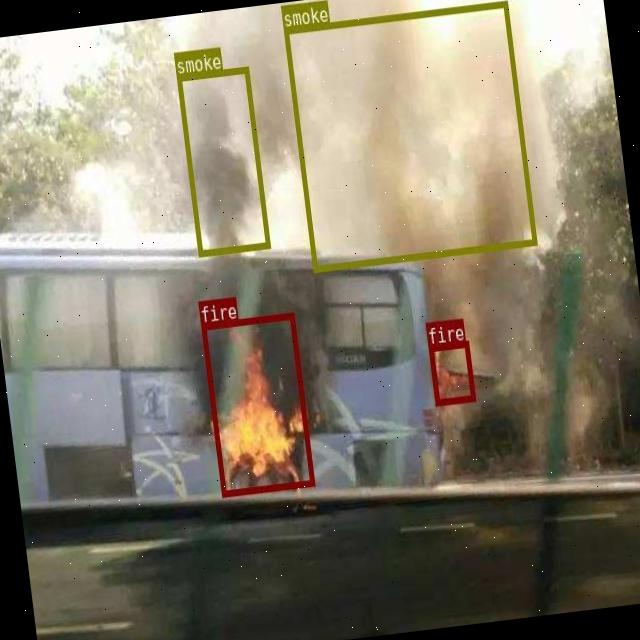fire: (200, 312, 314, 496), (428, 339, 474, 404)
smoke: (283, 0, 536, 271), (175, 67, 269, 256)
